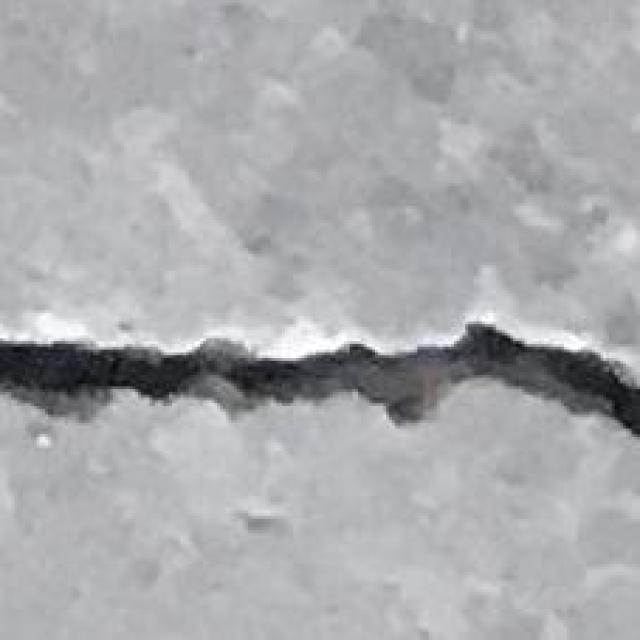horizontal crack: (0, 323, 639, 436)
